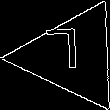L_S: (53, 30, 91, 82)
